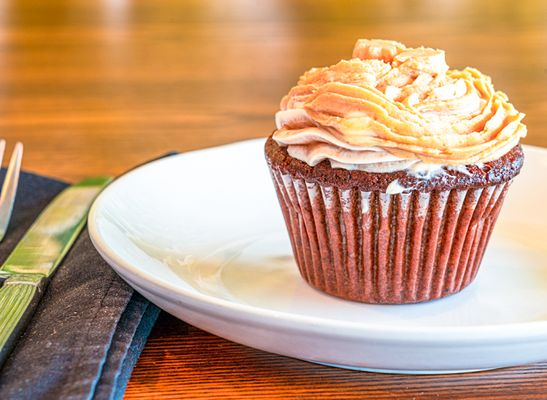sandwich: (0, 175, 109, 374)
